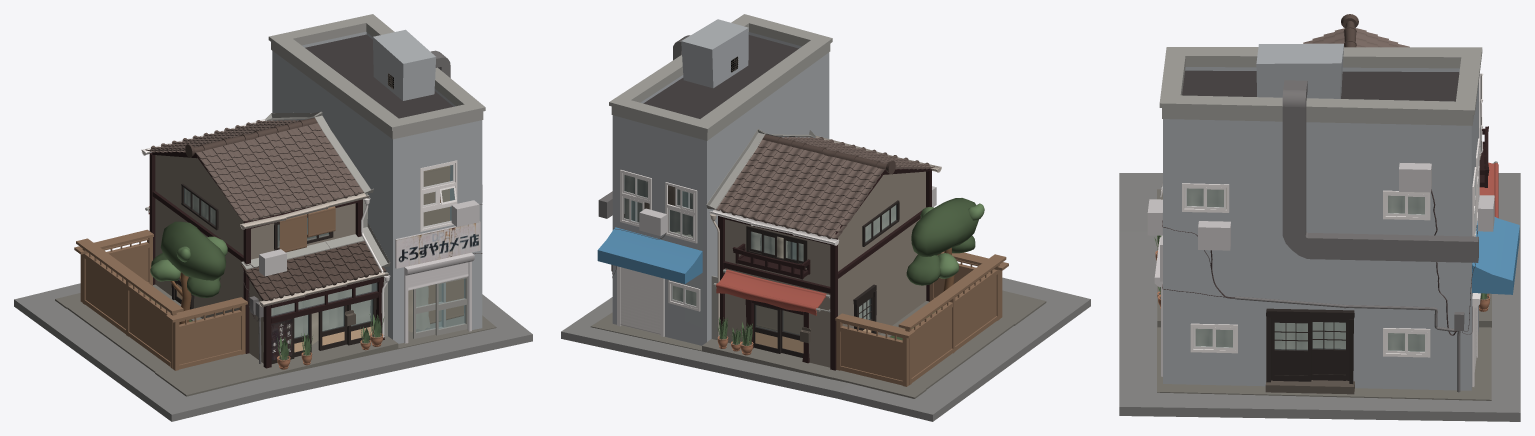
File: tp_jp_casas.glb
The picture shows the model from 3 angles, left to right: view 1: azimuth 30°, elevation 25°; view 2: azimuth 150°, elevation 25°; view 3: azimuth 270°, elevation 25°; orthographic projection. The views are drawn at different scales.
Parts seen in each view (by area): view 1: polySurface761, pCube74, polySurface231, polySurface113, polySurface774, polySurface306, polySurface517, pCube103, polySurface90, polySurface760, polySurface765, polySurface764 (+33 smaller); view 2: polySurface761, pCube74, polySurface113, polySurface231, polySurface774, polySurface306, pCube104, polySurface760, polySurface723, polySurface517, polySurface765, polySurface685 (+26 smaller); view 3: polySurface762, pCube74, polySurface774, polySurface866, polySurface760, polySurface765, pCube75, polySurface723, polySurface871, polySurface770, polySurface772, polySurface817 (+23 smaller).
Boxes of the visible parts, x1=… form: polySurface761: x1=272, y1=51, x2=482, y2=343; pCube74: x1=14, y1=283, x2=532, y2=421; polySurface231: x1=145, y1=120, x2=363, y2=221; polySurface113: x1=155, y1=128, x2=376, y2=363; polySurface774: x1=268, y1=14, x2=485, y2=139; polySurface306: x1=76, y1=238, x2=183, y2=368; polySurface517: x1=149, y1=151, x2=384, y2=368; pCube103: x1=166, y1=297, x2=247, y2=370; polySurface90: x1=241, y1=241, x2=386, y2=300; polySurface760: x1=302, y1=31, x2=455, y2=118; polySurface765: x1=373, y1=29, x2=436, y2=100; polySurface764: x1=395, y1=221, x2=480, y2=268; polySurface761: x1=612, y1=52, x2=829, y2=345; pCube74: x1=561, y1=277, x2=1090, y2=421; polySurface113: x1=725, y1=145, x2=926, y2=367; polySurface231: x1=716, y1=136, x2=934, y2=238; polySurface774: x1=609, y1=14, x2=832, y2=140; polySurface306: x1=898, y1=254, x2=1006, y2=385; pCube104: x1=835, y1=313, x2=915, y2=386; polySurface760: x1=640, y1=32, x2=801, y2=118; polySurface723: x1=597, y1=227, x2=702, y2=283; polySurface517: x1=718, y1=168, x2=931, y2=370; polySurface765: x1=681, y1=19, x2=748, y2=88; polySurface685: x1=911, y1=198, x2=978, y2=256; polySurface762: x1=1163, y1=119, x2=1471, y2=390; pCube74: x1=1119, y1=173, x2=1520, y2=421; polySurface774: x1=1159, y1=47, x2=1482, y2=125; polySurface866: x1=1282, y1=80, x2=1478, y2=262; polySurface760: x1=1182, y1=67, x2=1459, y2=101; polySurface765: x1=1256, y1=43, x2=1343, y2=98; pCube75: x1=1157, y1=327, x2=1491, y2=400; polySurface723: x1=1472, y1=217, x2=1519, y2=294; polySurface871: x1=1271, y1=317, x2=1311, y2=381; polySurface770: x1=1274, y1=322, x2=1345, y2=349; polySurface772: x1=1265, y1=380, x2=1354, y2=394; polySurface817: x1=1198, y1=221, x2=1230, y2=250.
Bounding box in the file's own units: 12.17 × 8.08 × 8.96.
30 materials, 2 textured.
